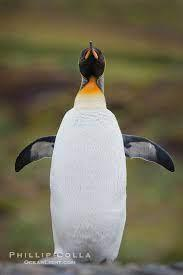king: (26, 36, 167, 263)
